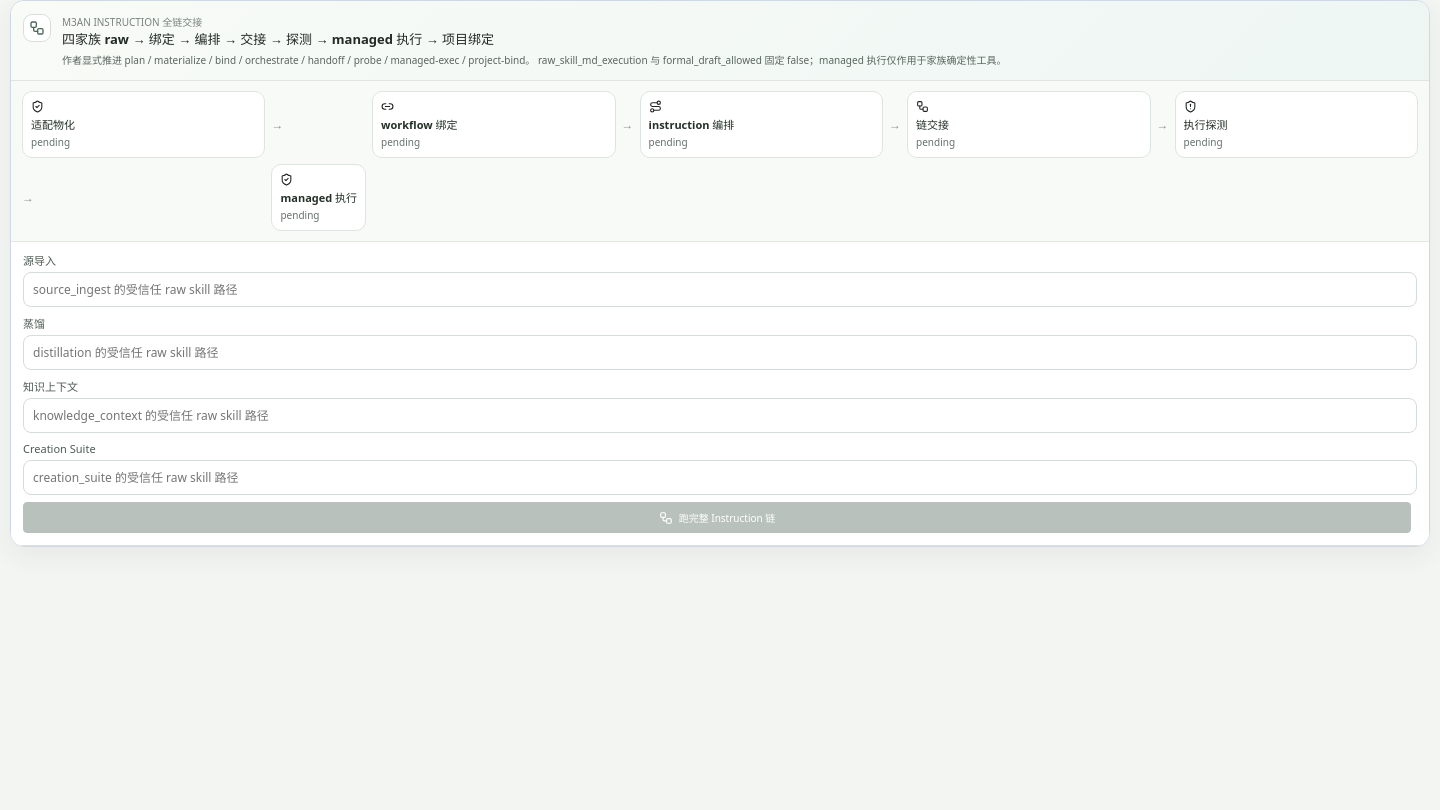
Test: FourSkillsInstructionChainPanel › runs plan/materialize/bind/orchestrate/handoff/probe without project managed execution
Type "C:\\skills\\source" into the field labelled "源导入" at (720, 290), box x1=23 y1=272 x2=1417 y2=307
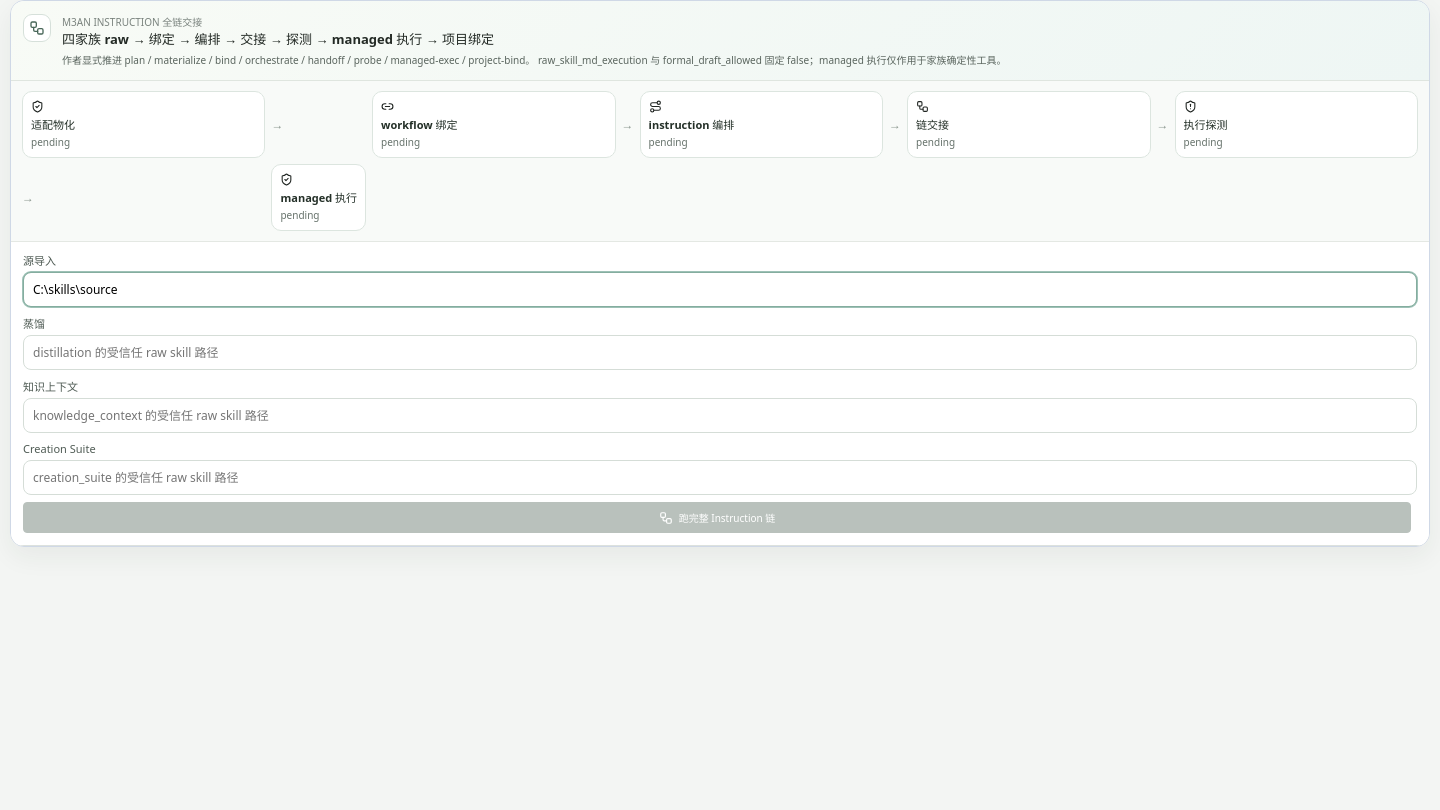
Type "C:\\skills\\distill" into the field labelled "蒸馏" at (720, 352), box x1=23 y1=335 x2=1417 y2=370
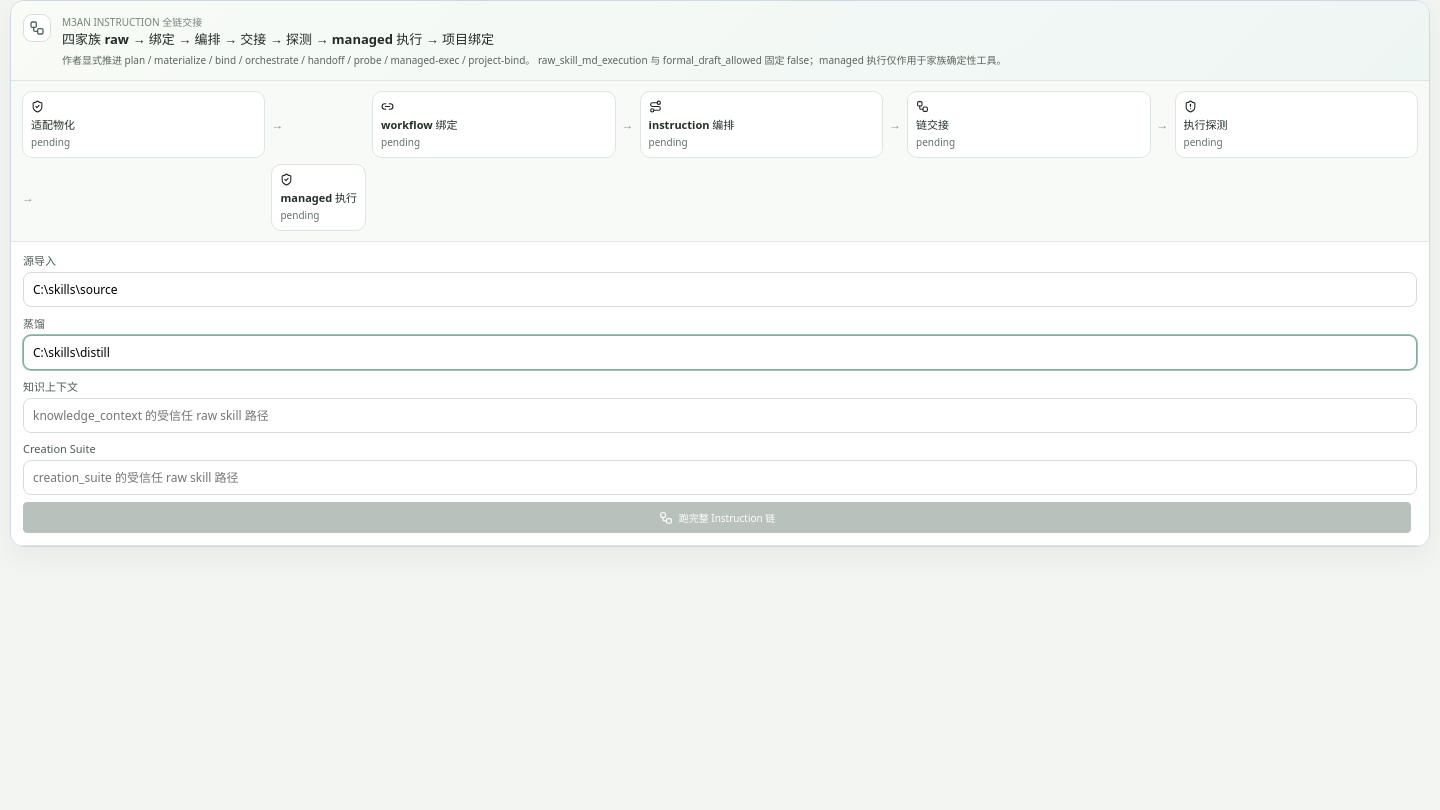
Type "C:\\skills\\kb" into the field labelled "知识上下文" at (720, 416), box x1=23 y1=398 x2=1417 y2=433
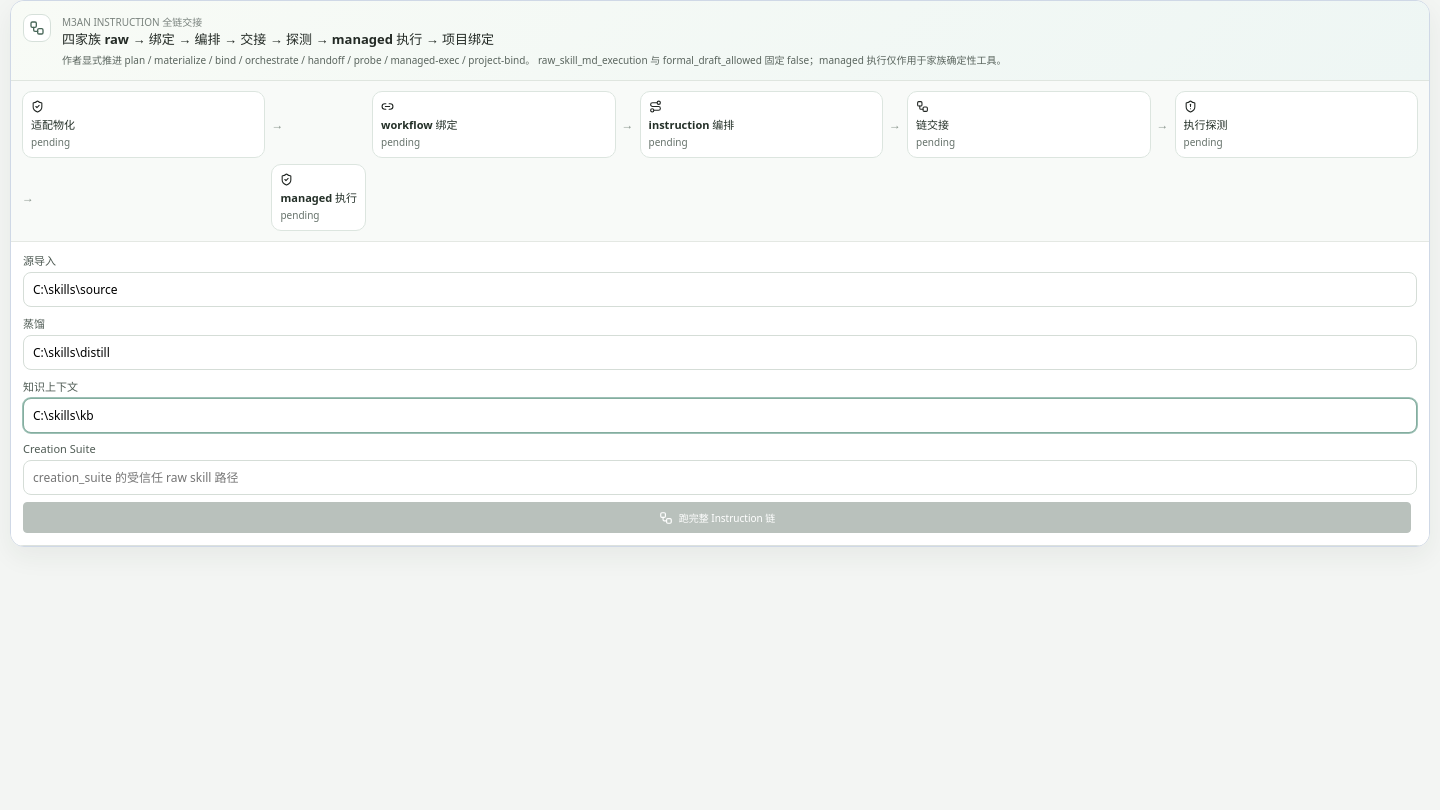
Type "C:\\skills\\creation" into the field labelled "Creation Suite" at (720, 478), box x1=23 y1=460 x2=1417 y2=495
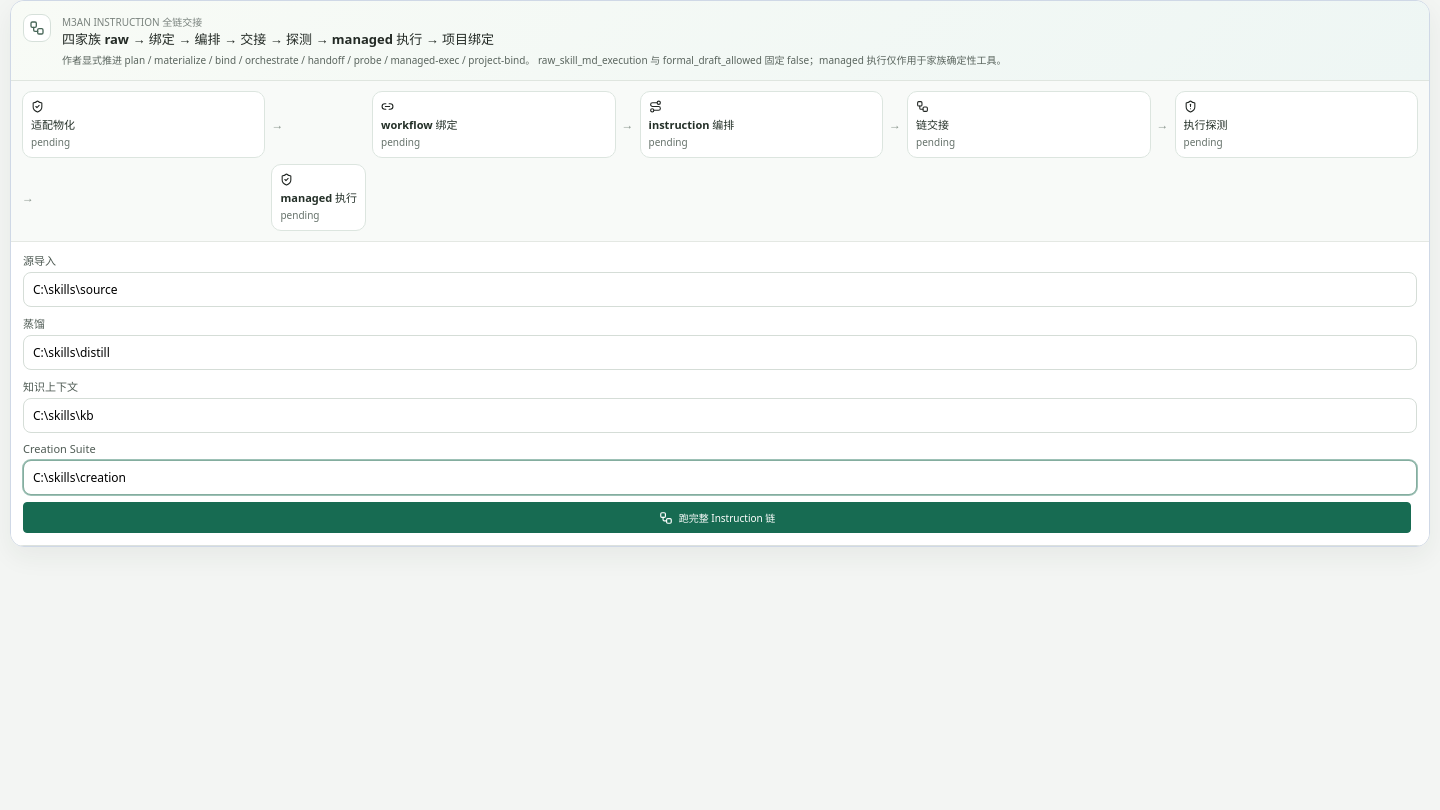
Click the button "跑完整 Instruction 链" at (717, 518), box x1=23 y1=502 x2=1411 y2=533
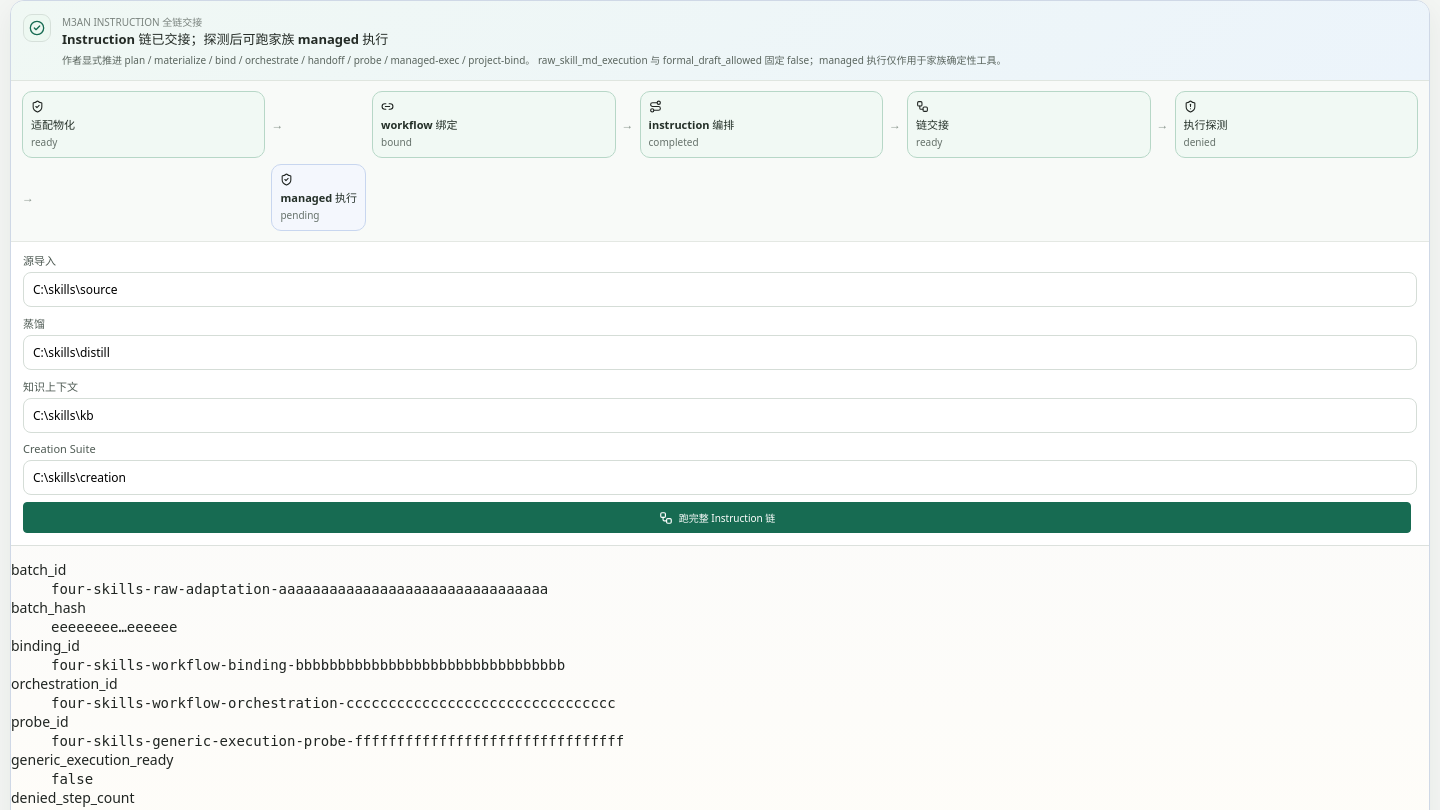
Expected: the heading "Instruction 链已交接；探测后可跑家族 managed 执行" is shown, x1=62 y1=30 x2=388 y2=48
Expected: the text "false" is shown, x1=51 y1=771 x2=93 y2=787
Expected: the text "generic_execution_ready" is shown, x1=11 y1=750 x2=173 y2=769
